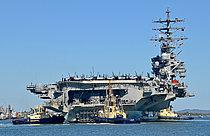MIL_Ship: (27, 6, 195, 123)
